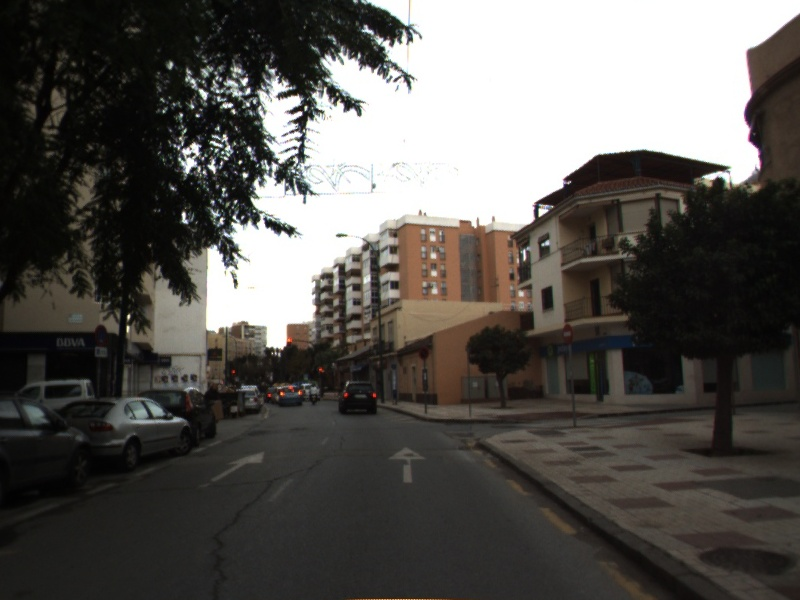STRAIGHT: (208, 449, 268, 485), (385, 444, 430, 485)
